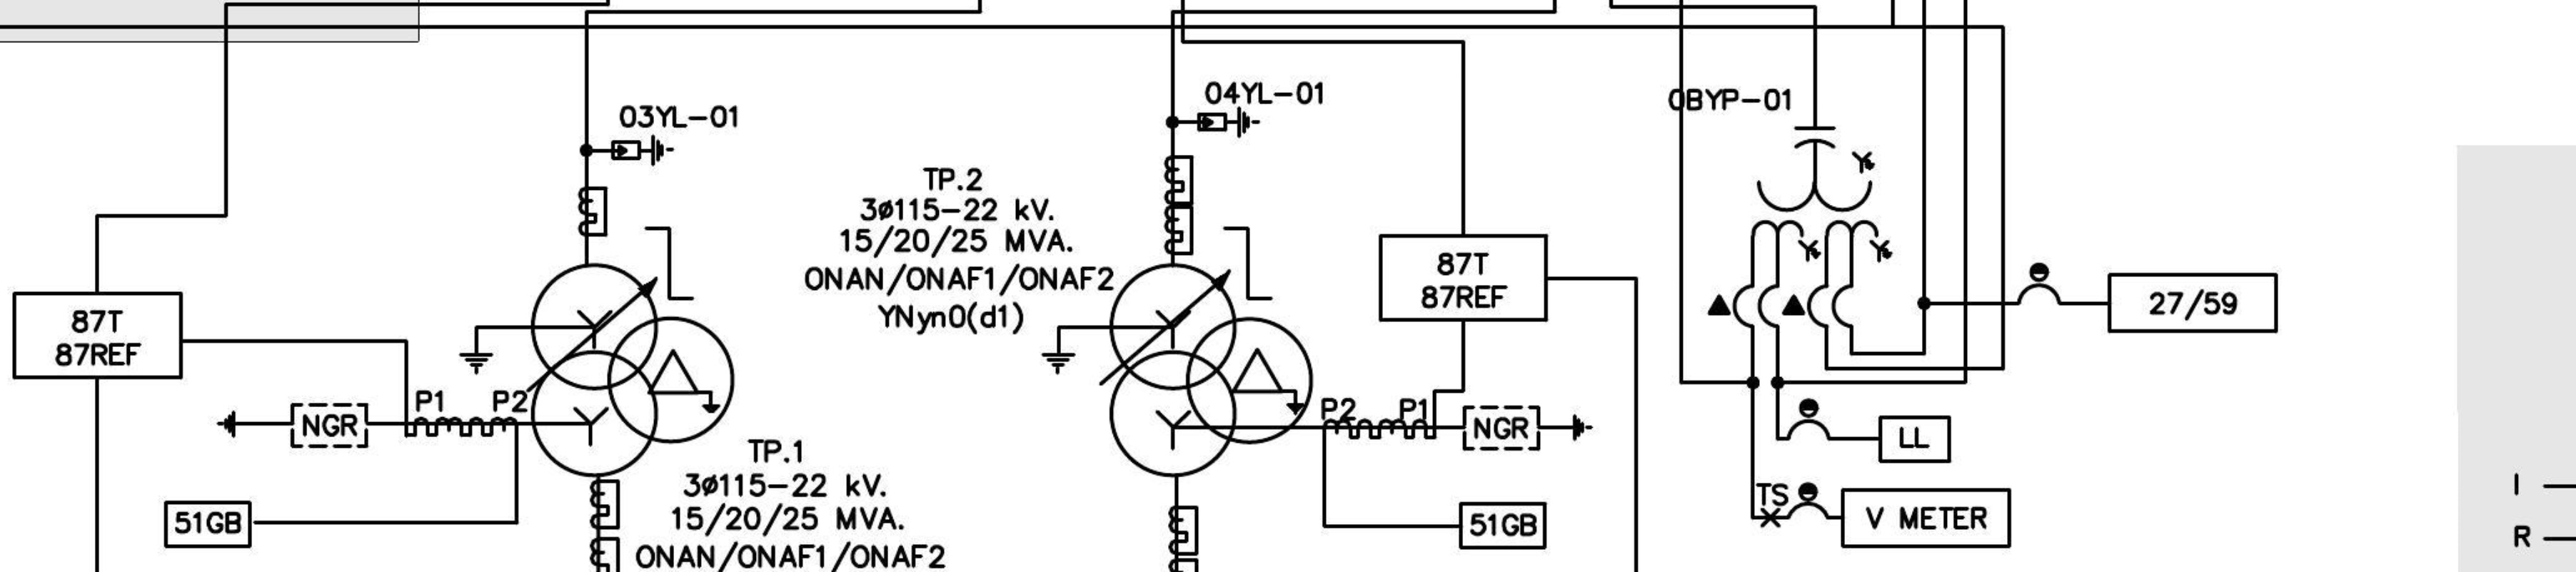11522_tx_ynyn0d1: (529, 261, 736, 478), (1107, 261, 1314, 478)
115_cvt_3p: (1705, 125, 1894, 330)
115_la: (609, 133, 675, 168), (1196, 105, 1262, 138)
LL: (1878, 414, 1952, 465)
NGR_future: (217, 403, 370, 449), (1462, 404, 1594, 452)
v_m_digital: (1840, 487, 2012, 549)
